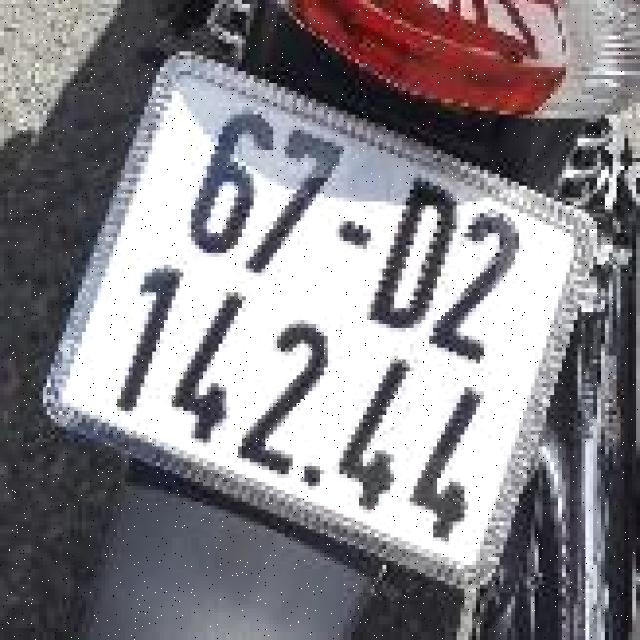1: (93, 251, 211, 431)
2: (222, 309, 360, 490), (414, 190, 538, 372)
4: (383, 370, 524, 555), (309, 339, 446, 528), (155, 266, 282, 458)
6: (172, 97, 289, 268)
7: (231, 120, 360, 295)
D: (357, 165, 481, 345)
